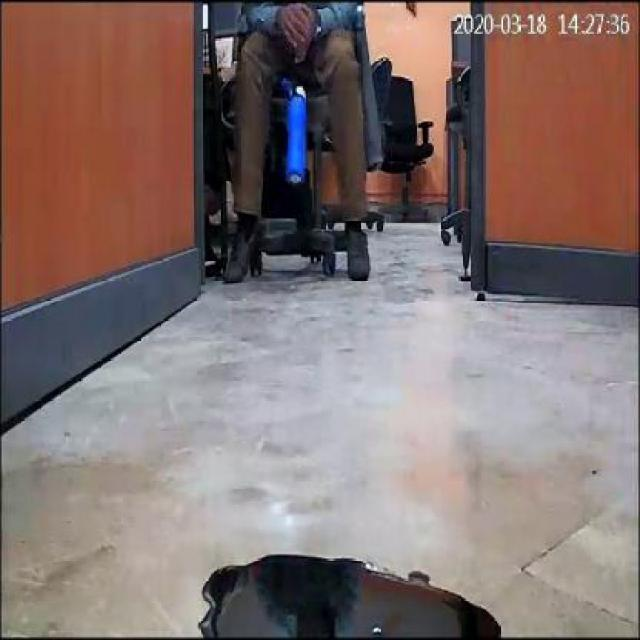spill: (194, 547, 506, 638)
